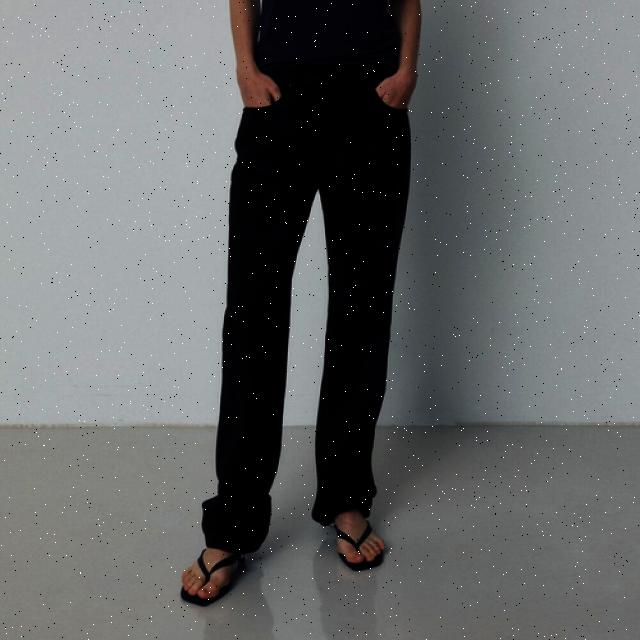Blouse_deep: (205, 54, 393, 537)
